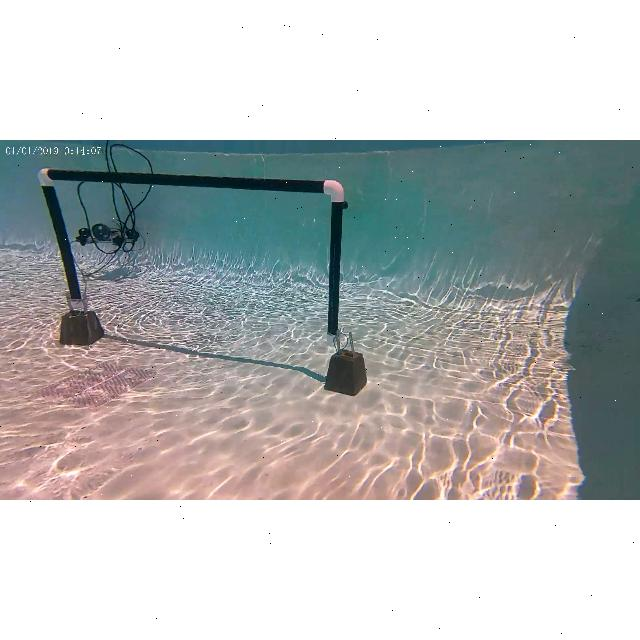prequal gate: (38, 166, 346, 348)
prequal gate leg l: (34, 166, 100, 340)
prequal gate leg r: (314, 178, 368, 390)
